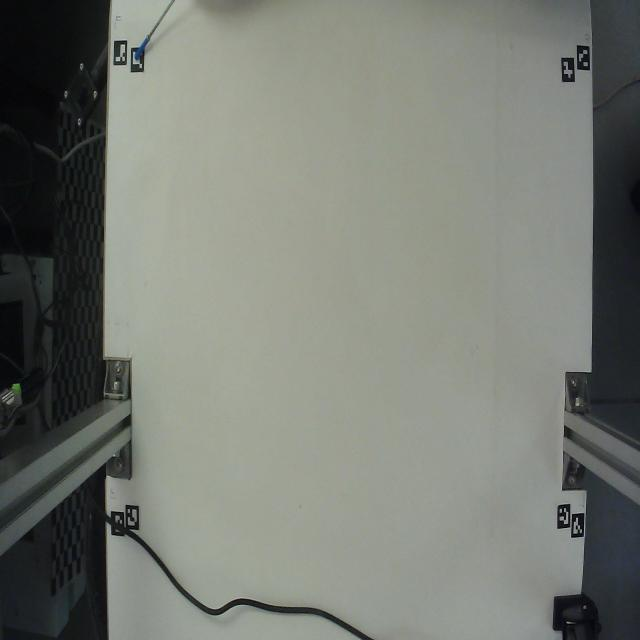Pres: (124, 0, 184, 78)
